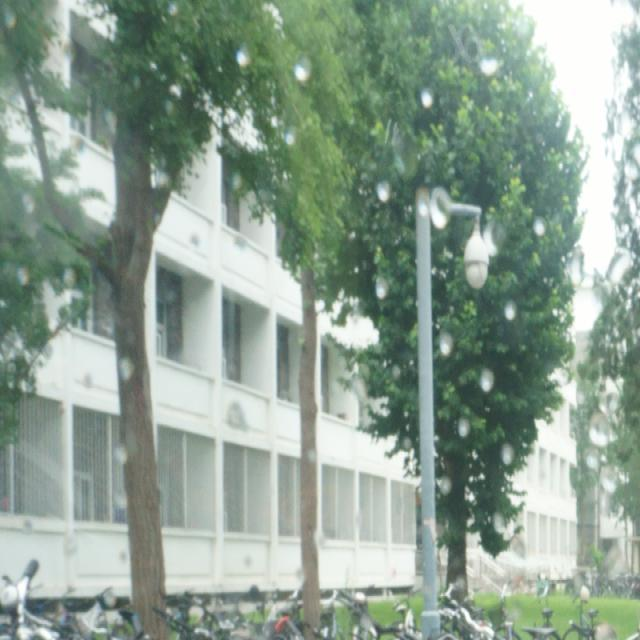raindrop: (198, 155, 246, 204), (230, 36, 260, 100), (471, 356, 503, 404), (475, 220, 507, 265), (470, 41, 503, 84), (406, 81, 439, 122), (491, 501, 532, 534), (320, 369, 358, 404), (6, 191, 46, 224), (589, 402, 616, 450), (596, 548, 632, 584), (289, 52, 323, 89), (522, 200, 549, 246), (53, 260, 83, 301), (432, 321, 460, 364), (586, 471, 618, 506), (94, 103, 122, 139), (504, 534, 536, 564), (492, 443, 526, 471), (112, 526, 137, 564), (370, 180, 395, 217), (298, 436, 324, 471), (109, 440, 132, 475), (408, 198, 433, 230), (284, 120, 302, 163), (104, 490, 134, 514), (578, 438, 600, 470), (453, 412, 473, 446), (0, 8, 20, 42), (111, 354, 132, 386), (10, 260, 30, 287), (397, 436, 420, 459), (504, 298, 521, 326), (438, 467, 454, 494)
